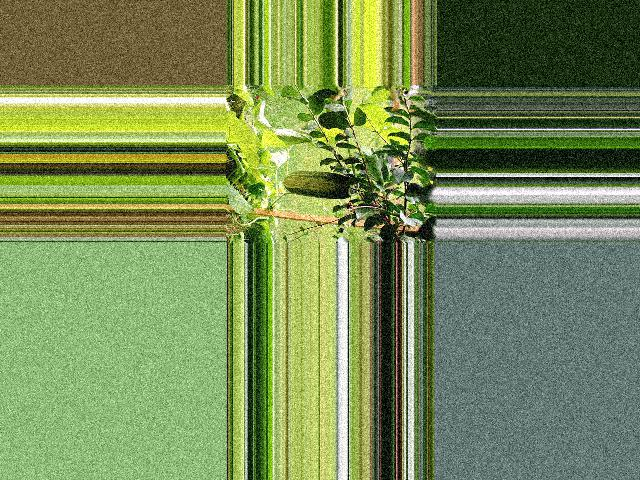cucumber: (283, 171, 358, 200)
